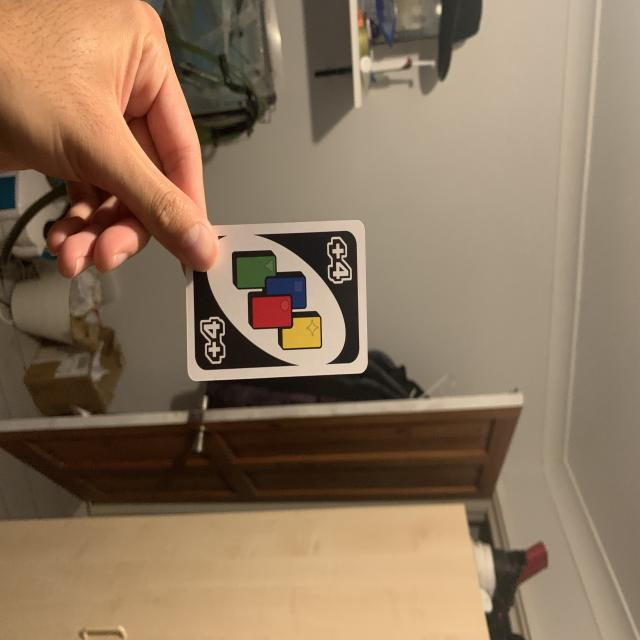lcolor-400: (316, 231, 359, 298)
